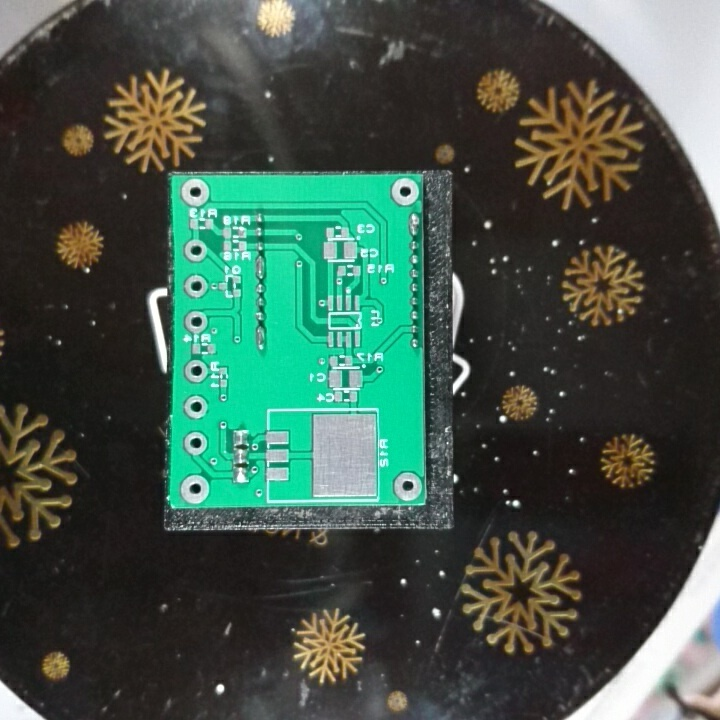F: (179, 177, 213, 210), (178, 473, 211, 505), (391, 470, 423, 501), (388, 176, 419, 206), (181, 357, 211, 385), (182, 429, 209, 458), (182, 274, 211, 299), (182, 238, 208, 265), (182, 393, 208, 420), (182, 309, 209, 333)
P: (253, 254, 271, 283), (407, 209, 422, 239), (253, 324, 268, 353)
